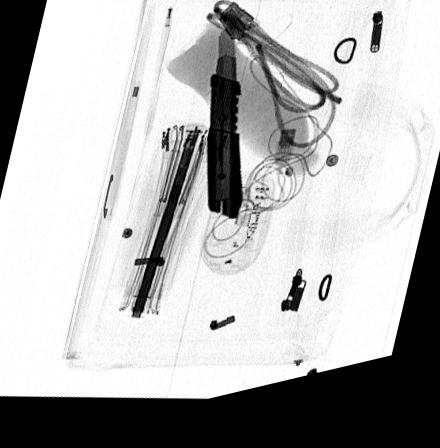Knife: (205, 33, 242, 231)
